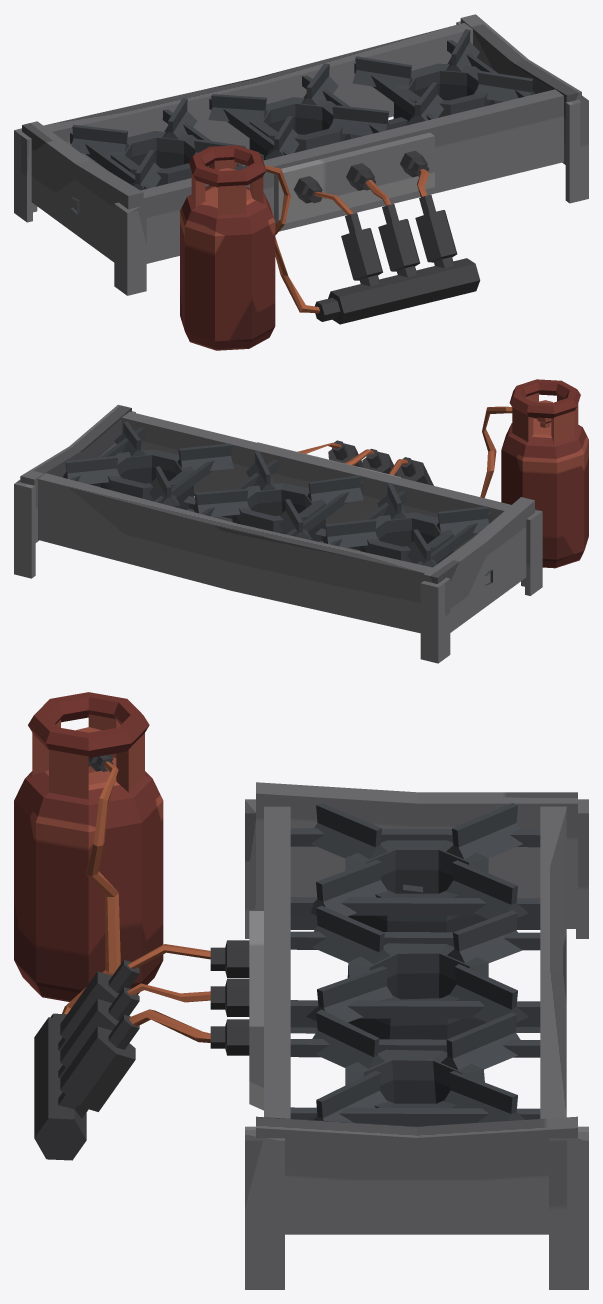
File: SM_Prop_OutdoorGrill_01.fbx
3 renders of one model, top to bottom at view 1: azimuth 30°, elevation 25°; view 2: azimuth 150°, elevation 25°; view 3: azimuth 270°, elevation 25°, orthographic. The views are drawn at different scales.
Parts seen in each view (by area): view 1: SM_Prop_OutdoorGrill_01; view 2: SM_Prop_OutdoorGrill_01; view 3: SM_Prop_OutdoorGrill_01.
Boxes of the visible parts, x1,y1,x2,y2 form: SM_Prop_OutdoorGrill_01: (14,14,588,350); SM_Prop_OutdoorGrill_01: (14,379,588,663); SM_Prop_OutdoorGrill_01: (14,692,588,1289).
Bounding box in the file's own units: 251 × 93.12 × 179.
